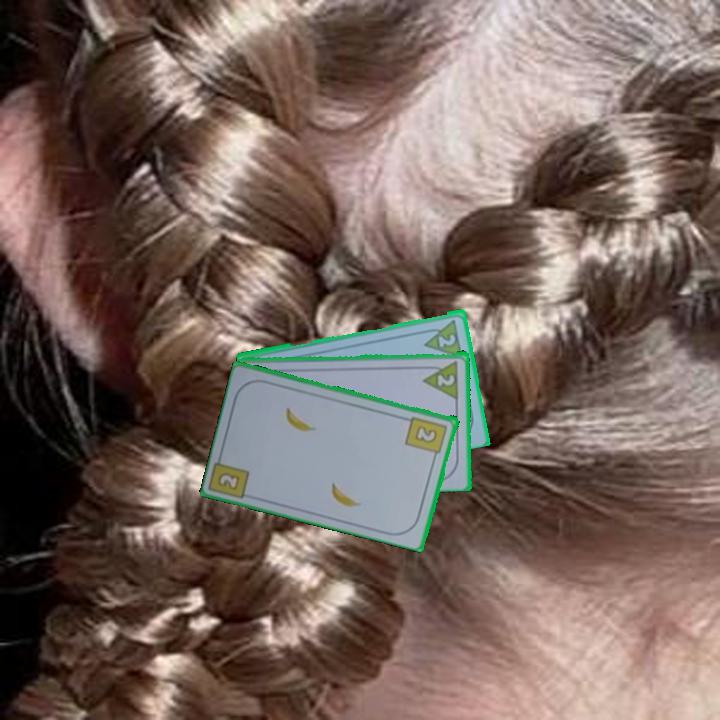2b: (402, 413, 450, 462), (214, 469, 243, 493)
2p: (420, 356, 461, 400), (435, 330, 459, 350)
